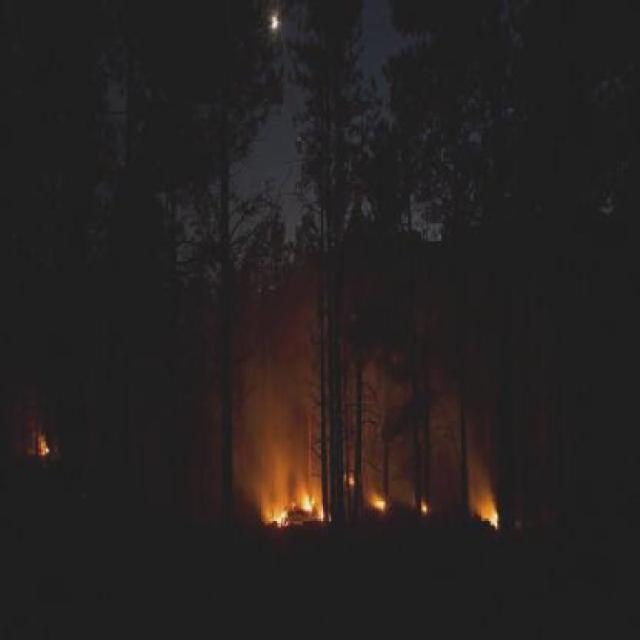Fire: (302, 494, 332, 524), (478, 501, 498, 530), (263, 506, 289, 528), (39, 434, 50, 458), (373, 493, 384, 512), (348, 472, 354, 486), (419, 502, 427, 512)
